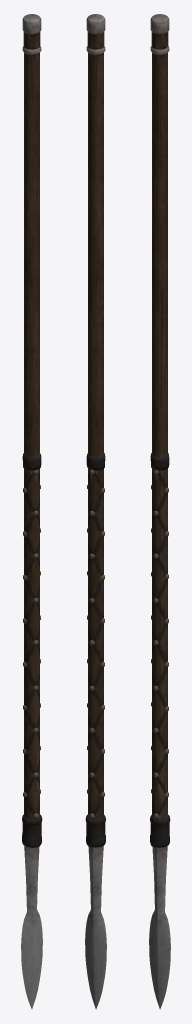
The model's file is weapon-wp_a_0923.glb.
3 views of the same model, side by side, from view 1: azimuth 30°, elevation 25°; view 2: azimuth 150°, elevation 25°; view 3: azimuth 330°, elevation 25° (orthographic).
Visible parts, largest first — view 1: wp_a_0923_mesh; view 2: wp_a_0923_mesh; view 3: wp_a_0923_mesh.
Part boxes in pixels (left/top/right/bottom): wp_a_0923_mesh: left=21, top=14, right=42, bottom=1009; wp_a_0923_mesh: left=85, top=14, right=106, bottom=1009; wp_a_0923_mesh: left=149, top=14, right=170, bottom=1009.
Bounding box in the file's own units: 0.0478 × 2.09 × 0.0403.
1 material, 1 textured.
